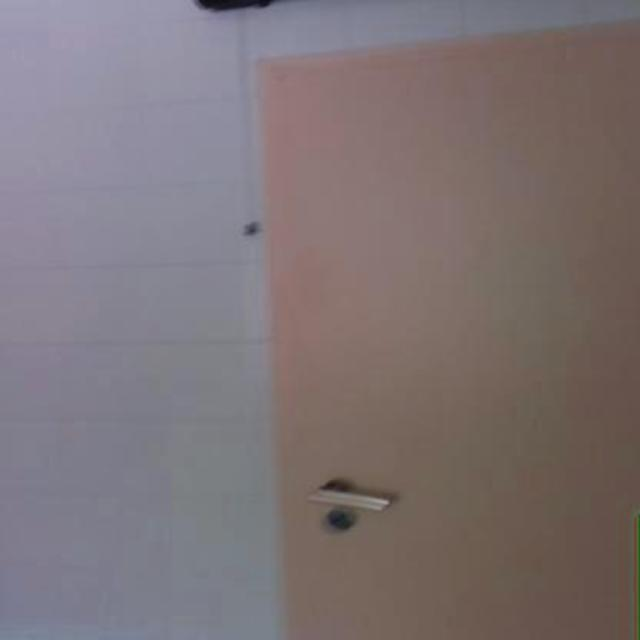door: (252, 11, 638, 639)
